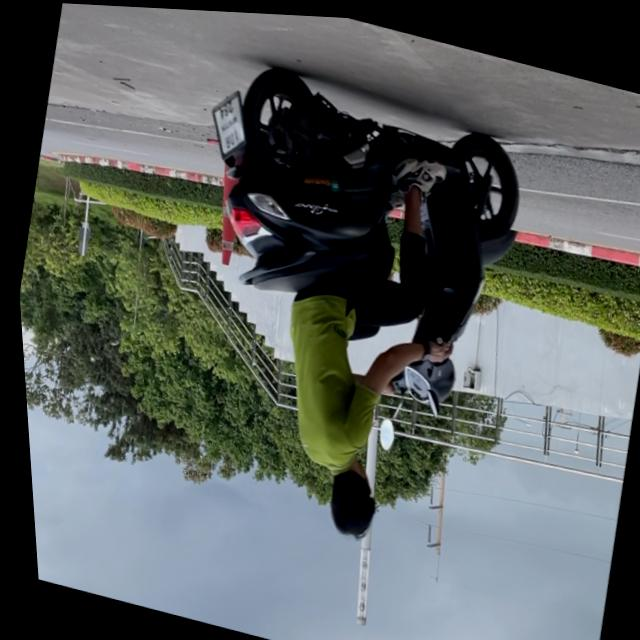seatbelt: (310, 449, 381, 541)
